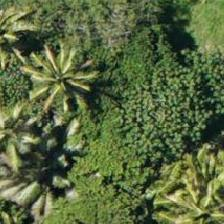coconut_tree: (20, 25, 110, 115), (0, 92, 58, 182), (155, 175, 223, 223)
